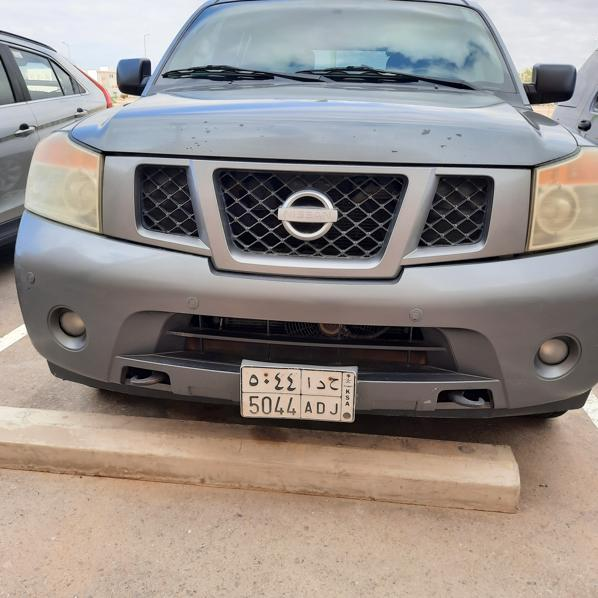numberplate: (242, 367, 354, 420)
